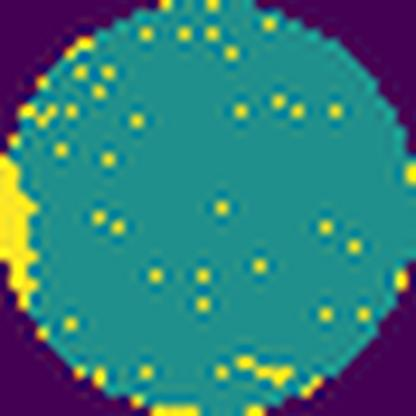Edge-Loc: (0, 152, 42, 309)
